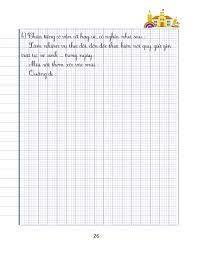text: (27, 41, 173, 52), (19, 30, 144, 42), (18, 50, 94, 62), (27, 59, 96, 68), (28, 68, 56, 80), (93, 233, 100, 239), (121, 240, 121, 241)
